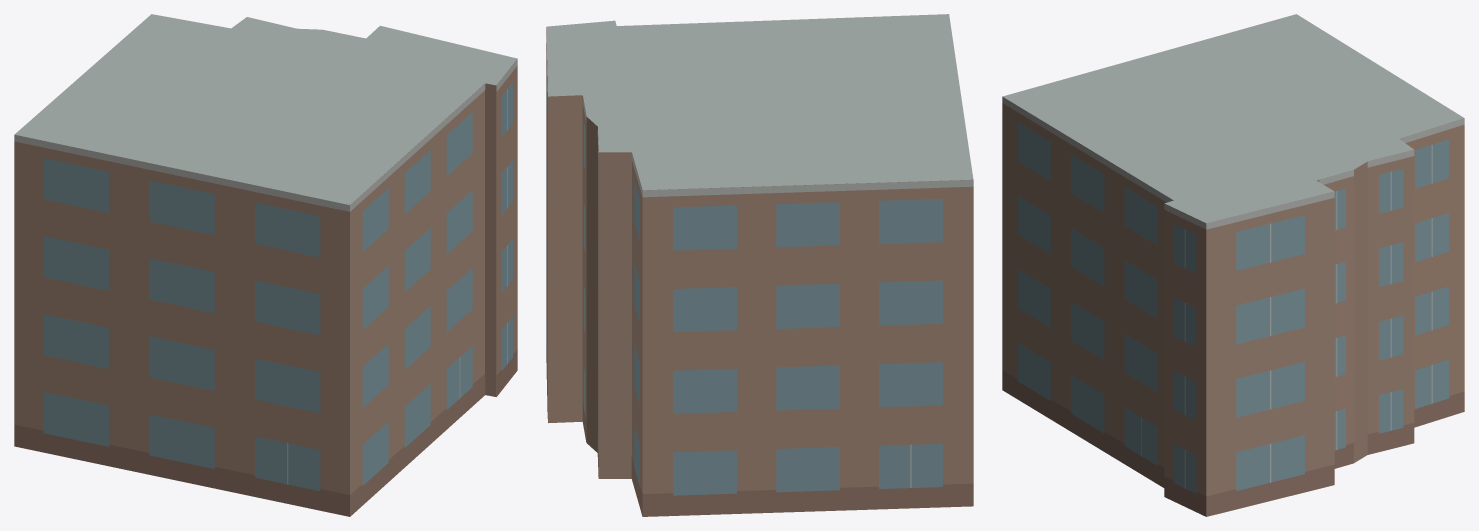
File: survey-upis-32624899.glb
The picture shows the model from 3 angles, left to right: view 1: azimuth 30°, elevation 25°; view 2: azimuth 150°, elevation 25°; view 3: azimuth 270°, elevation 25°; orthographic projection. The views are drawn at different scales.
Parts seen in each view (by area): view 1: survey-upis-32624899.tmp; view 2: survey-upis-32624899.tmp; view 3: survey-upis-32624899.tmp.
Boxes of the visible parts, <box> form: survey-upis-32624899.tmp: <box>14,14,517,516</box>; survey-upis-32624899.tmp: <box>546,14,973,516</box>; survey-upis-32624899.tmp: <box>1002,14,1464,516</box>.
Bounding box in the file's own units: 17.29 × 11.3 × 16.14.
